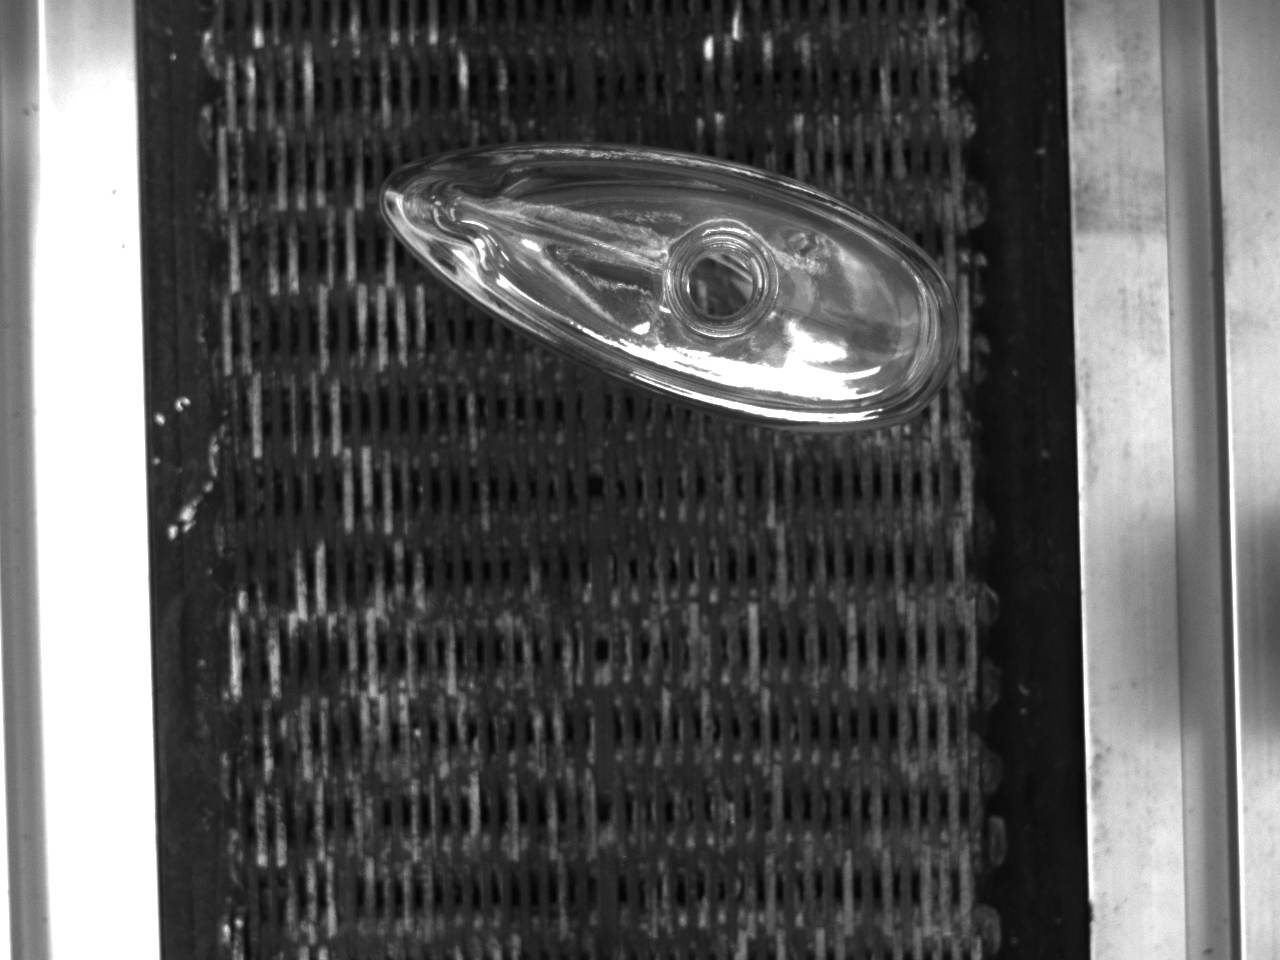bottleneck: (665, 226, 779, 340)
